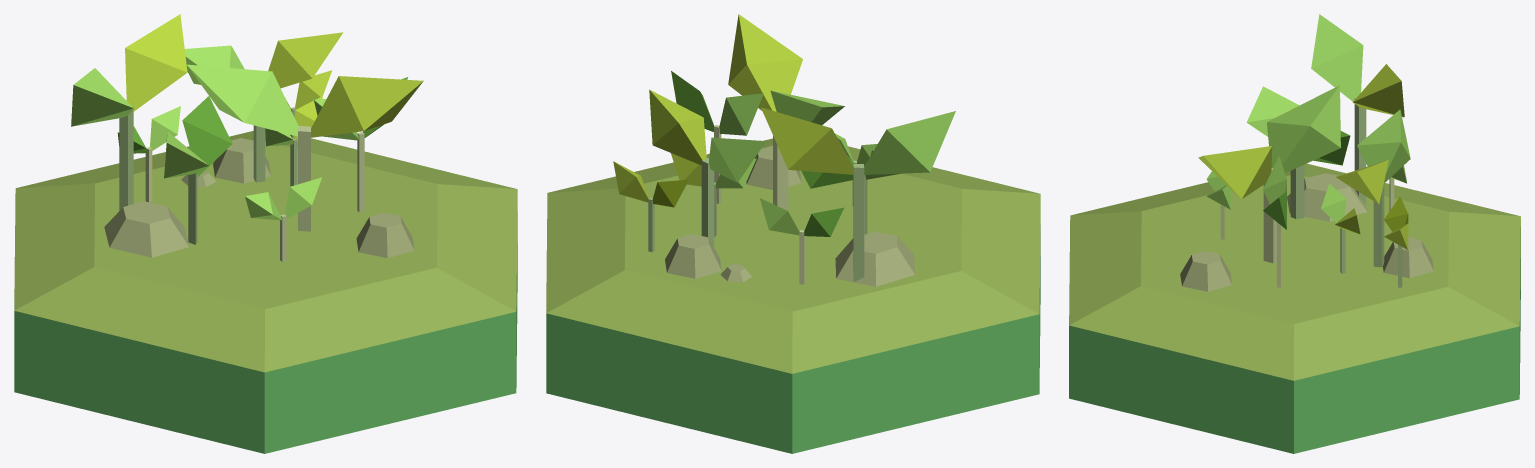
3 renders of one model, left to right at view 1: azimuth 30°, elevation 25°; view 2: azimuth 150°, elevation 25°; view 3: azimuth 270°, elevation 25°, orthographic. The views are drawn at different scales.
Parts seen in each view (by area): view 1: 物件_42, 物件_40, 物件_21, 物件_22, 物件_28, 物件_17, 物件_25, 物件_29, 物件_31, 物件_20, 物件_19, 物件_27 (+10 smaller); view 2: 物件_42, 物件_40, 物件_22, 物件_28, 物件_29, 物件_17, 物件_25, 物件_19, 物件_24, 物件_21, 物件_27, 物件_13 (+10 smaller); view 3: 物件_42, 物件_40, 物件_21, 物件_29, 物件_22, 物件_24, 物件_17, 物件_28, 物件_20, 物件_19, 物件_32, 物件_25 (+9 smaller).
Part boxes in pixels (bbox=[...]): 物件_42: bbox=[14, 131, 517, 372]; 物件_40: bbox=[14, 211, 517, 453]; 物件_21: bbox=[187, 64, 298, 136]; 物件_22: bbox=[311, 76, 423, 137]; 物件_28: bbox=[125, 14, 187, 111]; 物件_17: bbox=[104, 201, 188, 257]; 物件_25: bbox=[268, 32, 343, 88]; 物件_29: bbox=[71, 68, 133, 126]; 物件_31: bbox=[182, 96, 232, 176]; 物件_20: bbox=[356, 212, 414, 258]; 物件_19: bbox=[213, 138, 270, 183]; 物件_27: bbox=[119, 106, 133, 210]; 物件_42: bbox=[546, 138, 1040, 373]; 物件_40: bbox=[546, 225, 1040, 453]; 物件_22: bbox=[728, 14, 802, 111]; 物件_28: bbox=[761, 107, 853, 174]; 物件_29: bbox=[864, 111, 955, 174]; 物件_17: bbox=[835, 231, 914, 286]; 物件_25: bbox=[649, 89, 706, 165]; 物件_19: bbox=[665, 234, 721, 278]; 物件_24: bbox=[708, 137, 766, 182]; 物件_21: bbox=[770, 90, 844, 125]; 物件_27: bbox=[853, 163, 864, 281]; 物件_13: bbox=[719, 93, 763, 135]; 物件_42: bbox=[1069, 163, 1520, 380]; 物件_40: bbox=[1069, 227, 1520, 453]; 物件_21: bbox=[1267, 85, 1340, 172]; 物件_29: bbox=[1311, 14, 1363, 101]; 物件_22: bbox=[1198, 146, 1272, 199]; 物件_24: bbox=[1357, 109, 1410, 182]; 物件_17: bbox=[1287, 173, 1367, 221]; 物件_28: bbox=[1352, 64, 1404, 117]; 物件_20: bbox=[1180, 251, 1232, 291]; 物件_19: bbox=[1382, 237, 1433, 278]; 物件_32: bbox=[1246, 86, 1299, 136]; 物件_25: bbox=[1335, 160, 1388, 204].
Size of the model in its own units: 129 by 112 by 68.8.
